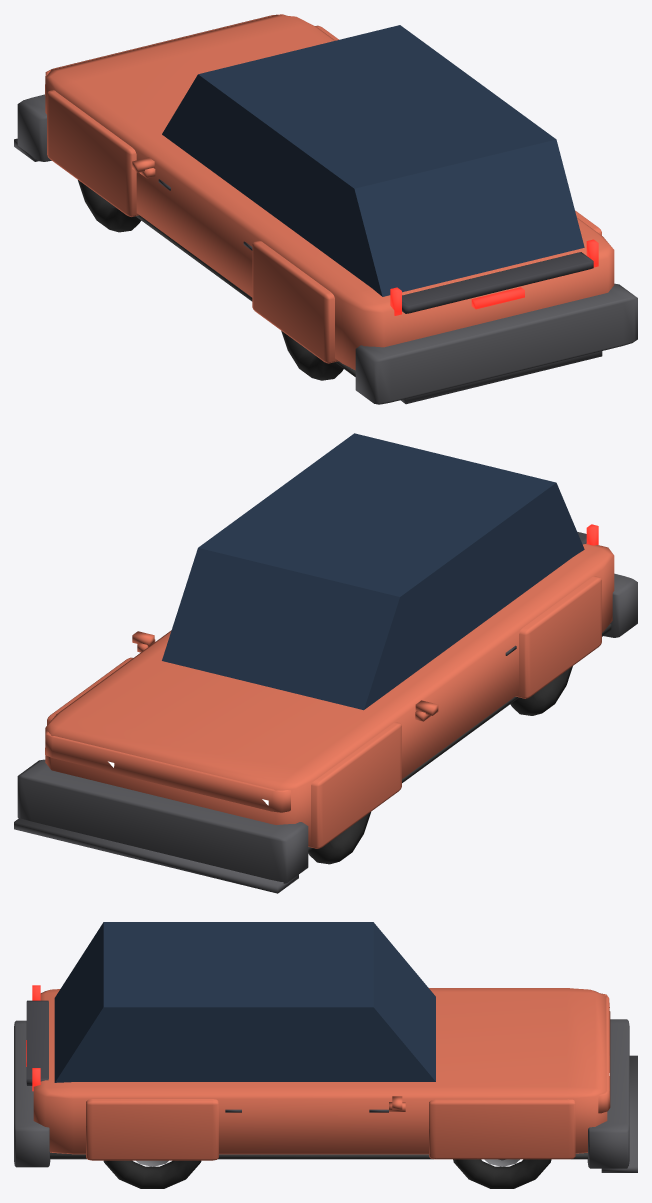
The model's file is hatchback.glb.
3 views of the same model, one above another, from view 1: azimuth 30°, elevation 25°; view 2: azimuth 150°, elevation 25°; view 3: azimuth 270°, elevation 25° (orthographic). The views are drawn at different scales.
Visible parts, largest first — view 1: GlassCanopy, Body, RearBumper, Fender-1F, Fender-1R, Spoiler, FrontBumper, Tire1, Diffuser, Tire3, UnderBody, red_glass.002; view 2: GlassCanopy, Body, FrontBumper, Fender-1F, Fender-1R, Hood, Splitter, RearBumper, Tire1, Tire3; view 3: GlassCanopy, Body, Fender+1F, Fender+1R, FrontBumper, RearBumper, Tire0, Tire2, Spoiler, UnderBody, Splitter, Hood.
Part boxes in pixels (x1=…): GlassCanopy: x1=162, y1=25, x2=584, y2=296; Body: x1=45, y1=15, x2=614, y2=370; RearBumper: x1=355, y1=283, x2=637, y2=404; Fender-1F: x1=47, y1=90, x2=138, y2=216; Fender-1R: x1=252, y1=240, x2=338, y2=363; Spoiler: x1=402, y1=252, x2=593, y2=313; FrontBumper: x1=17, y1=94, x2=51, y2=161; Tire1: x1=78, y1=180, x2=141, y2=232; Diffuser: x1=401, y1=351, x2=602, y2=404; Tire3: x1=281, y1=331, x2=343, y2=380; UnderBody: x1=135, y1=215, x2=355, y2=376; red_glass.002: x1=471, y1=287, x2=524, y2=309; GlassCanopy: x1=162, y1=433, x2=584, y2=710; Body: x1=45, y1=543, x2=614, y2=845; FrontBumper: x1=17, y1=759, x2=308, y2=883; Fender-1F: x1=308, y1=722, x2=401, y2=848; Fender-1R: x1=515, y1=576, x2=601, y2=698; Hood: x1=45, y1=731, x2=290, y2=812; Splitter: x1=14, y1=818, x2=298, y2=893; RearBumper: x1=604, y1=573, x2=637, y2=637; Tire1: x1=308, y1=812, x2=370, y2=864; Tire3: x1=510, y1=666, x2=572, y2=715; GlassCanopy: x1=54, y1=922, x2=435, y2=1082; Body: x1=33, y1=988, x2=607, y2=1154; Fender+1F: x1=429, y1=1099, x2=575, y2=1159; Fender+1R: x1=86, y1=1099, x2=218, y2=1160; FrontBumper: x1=587, y1=1019, x2=629, y2=1168; RearBumper: x1=14, y1=1020, x2=50, y2=1167; Tire0: x1=453, y1=1159, x2=551, y2=1188; Tire2: x1=103, y1=1160, x2=201, y2=1188; Spoiler: x1=26, y1=1000, x2=48, y2=1085; UnderBody: x1=50, y1=1152, x2=587, y2=1159; Splitter: x1=601, y1=1055, x2=637, y2=1172; Hood: x1=598, y1=993, x2=610, y2=1113.
Size of the model in its own units: 2.14 by 1.4 by 4.46.
